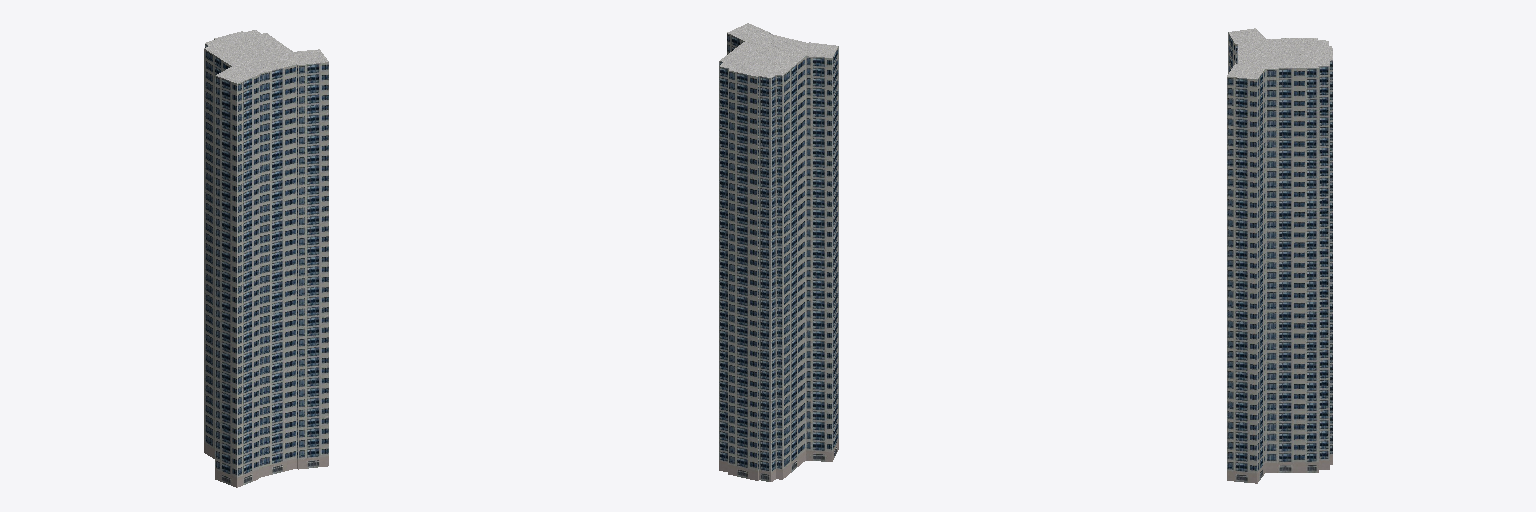
The picture shows the model from 3 angles: view 1: azimuth 30°, elevation 25°; view 2: azimuth 150°, elevation 25°; view 3: azimuth 270°, elevation 25°; orthographic projection.
Parts seen in each view (by area): view 1: BuildingMaster_[number redacted]_0, BuildingMaster_[number redacted]_1; view 2: BuildingMaster_[number redacted]_0, BuildingMaster_[number redacted]_1; view 3: BuildingMaster_[number redacted]_0, BuildingMaster_[number redacted]_1.
Part boxes in pixels (x1,y1,x2,y2): BuildingMaster_[number redacted]_0: (204, 39, 328, 487); BuildingMaster_[number redacted]_1: (204, 30, 328, 83); BuildingMaster_[number redacted]_0: (719, 33, 838, 481); BuildingMaster_[number redacted]_1: (720, 23, 837, 77); BuildingMaster_[number redacted]_0: (1227, 32, 1332, 483); BuildingMaster_[number redacted]_1: (1227, 28, 1332, 78).
Bounding box in the file's own units: 38.03 × 140 × 33.55.
2 materials, 2 textured.